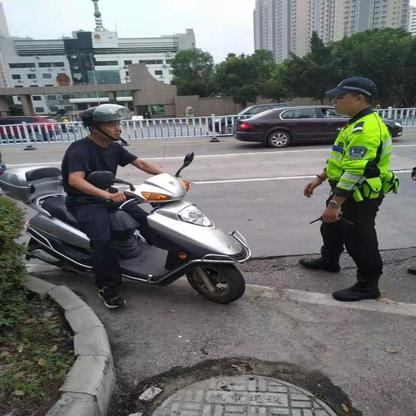target: (8, 103, 250, 313)
